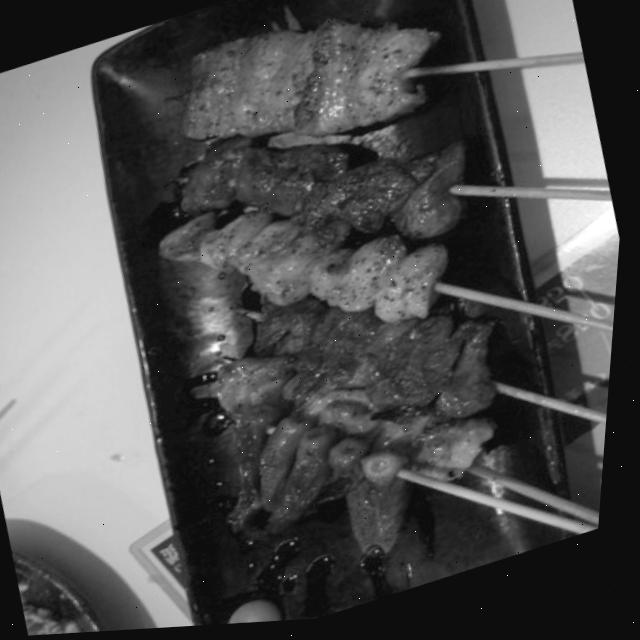烧串烤肉: (97, 0, 583, 613)
